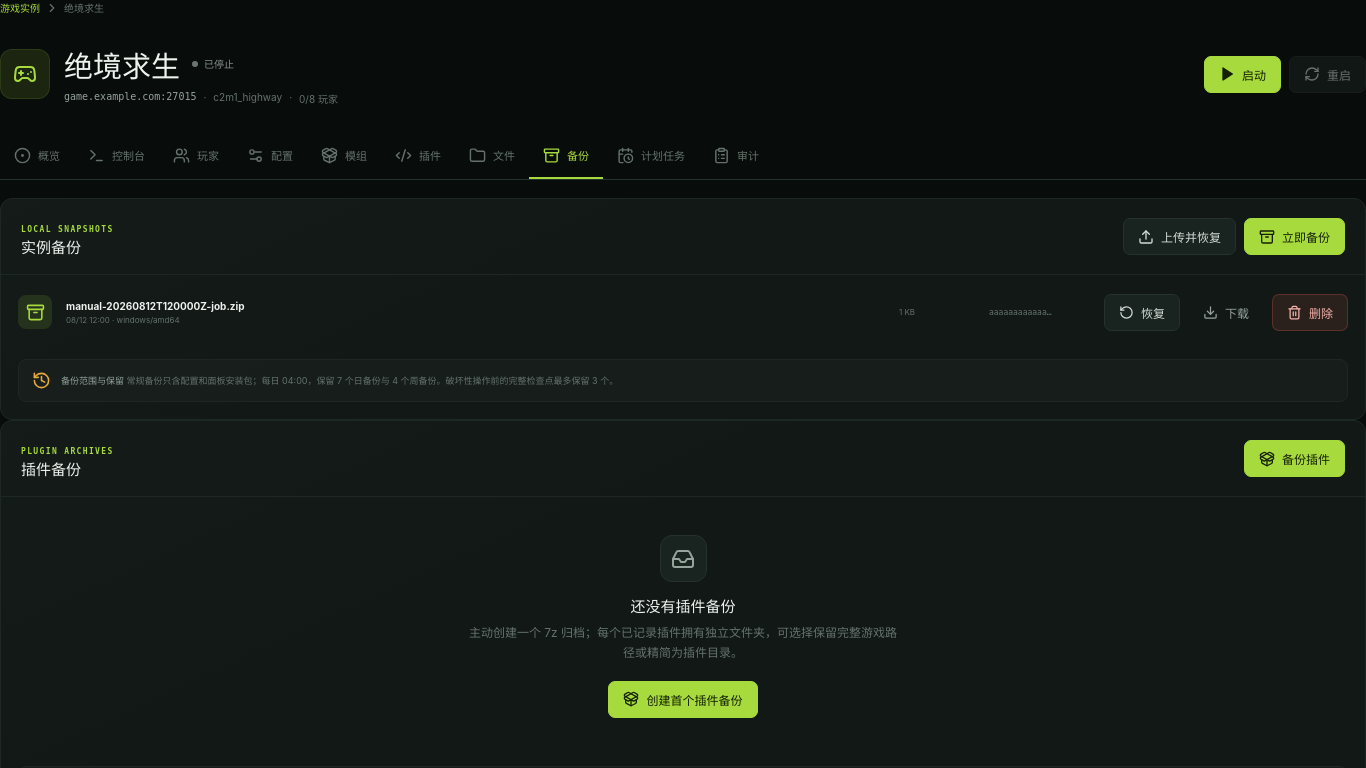
Test: 游戏实例配置中的端口 › 从备份列表确认后提交永久删除任务
What coordinates should you click on to do the following:
click the button "删除"
I would click on:
 (1310, 312)
Its box is [1272, 294, 1348, 330].
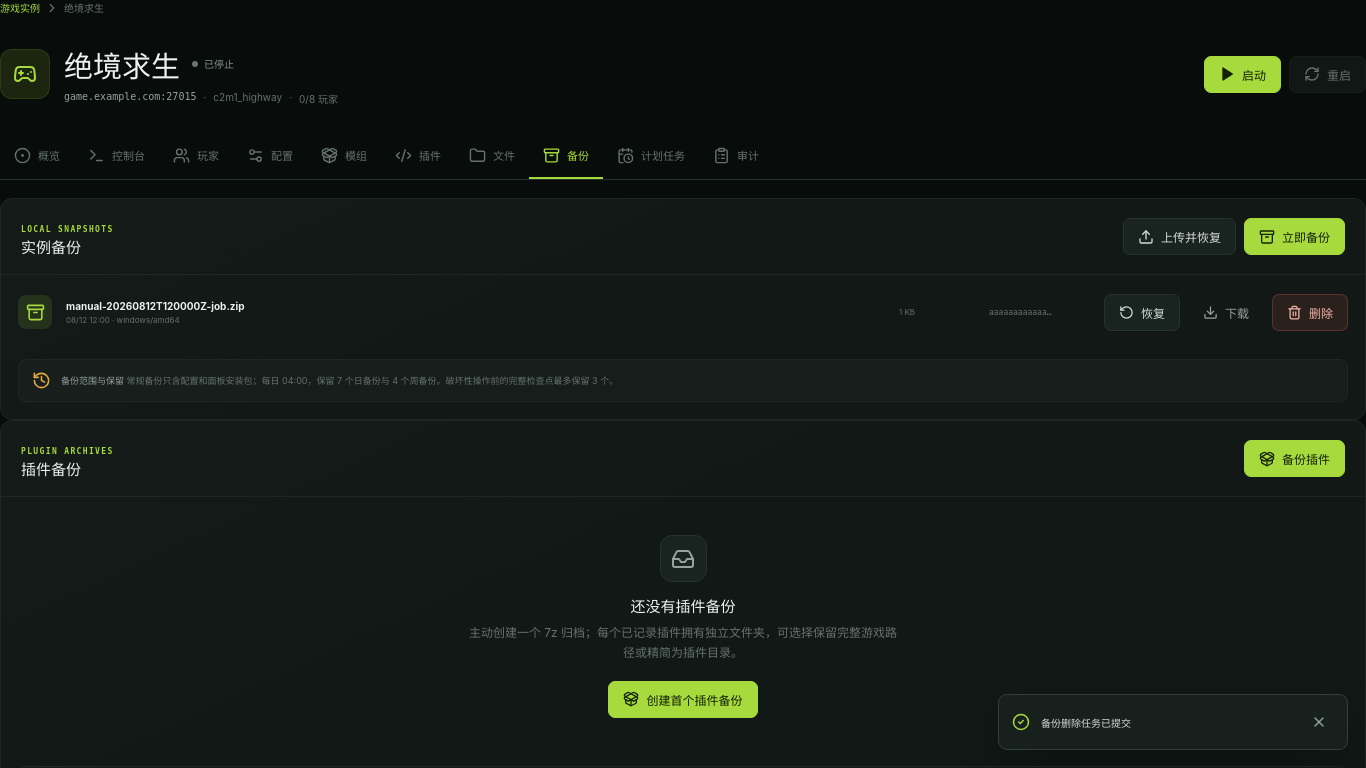
Check: the text "备份删除任务已提交" is shown, box [1041, 716, 1131, 728]
